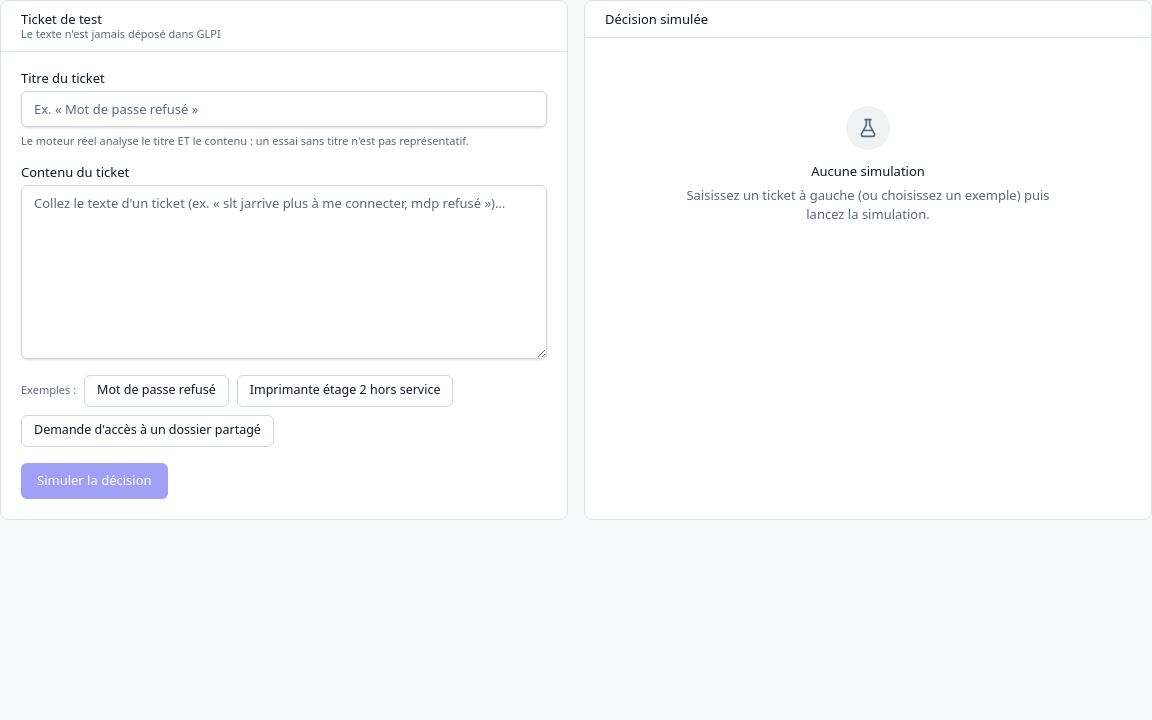
Test: Sandbox › simule une décision et affiche le résultat (accepté + brouillon)
The width and height of the screenshot is (1152, 720).
Step 1. Type "mdp refusé" into the text box labelled "Contenu du ticket" → [284, 272], box 21,184 -> 547,358
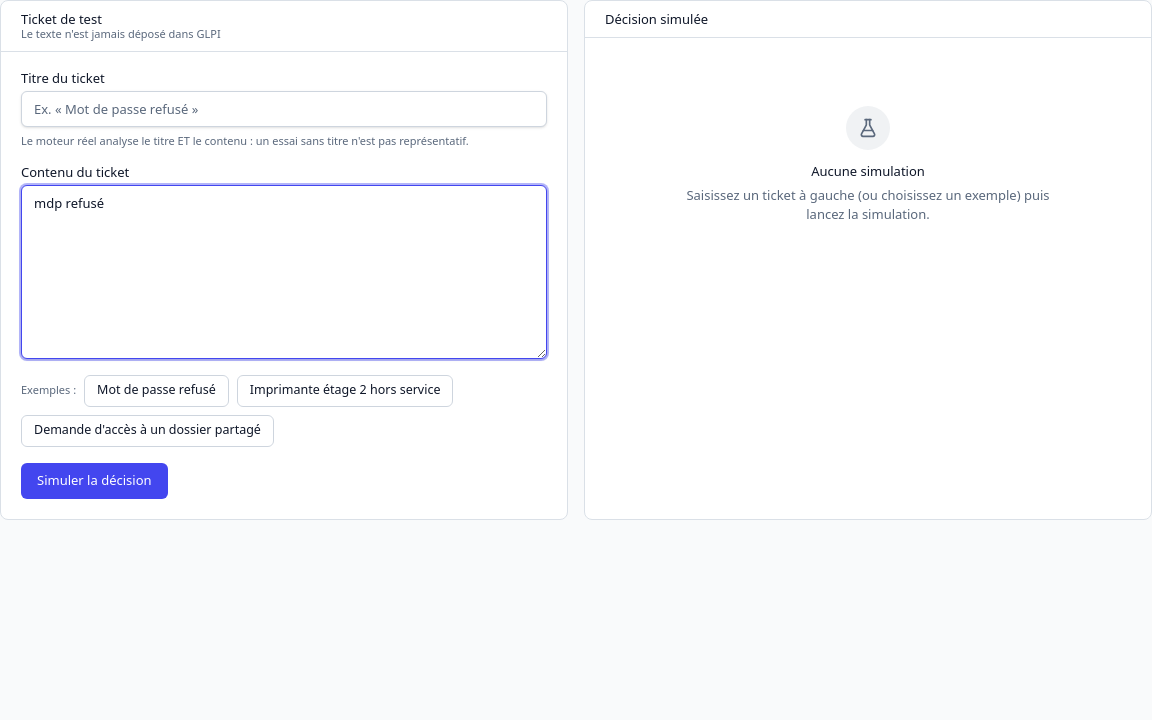
Step 2. Click the button "Simuler la décision" → [94, 480], box 21,462 -> 168,498
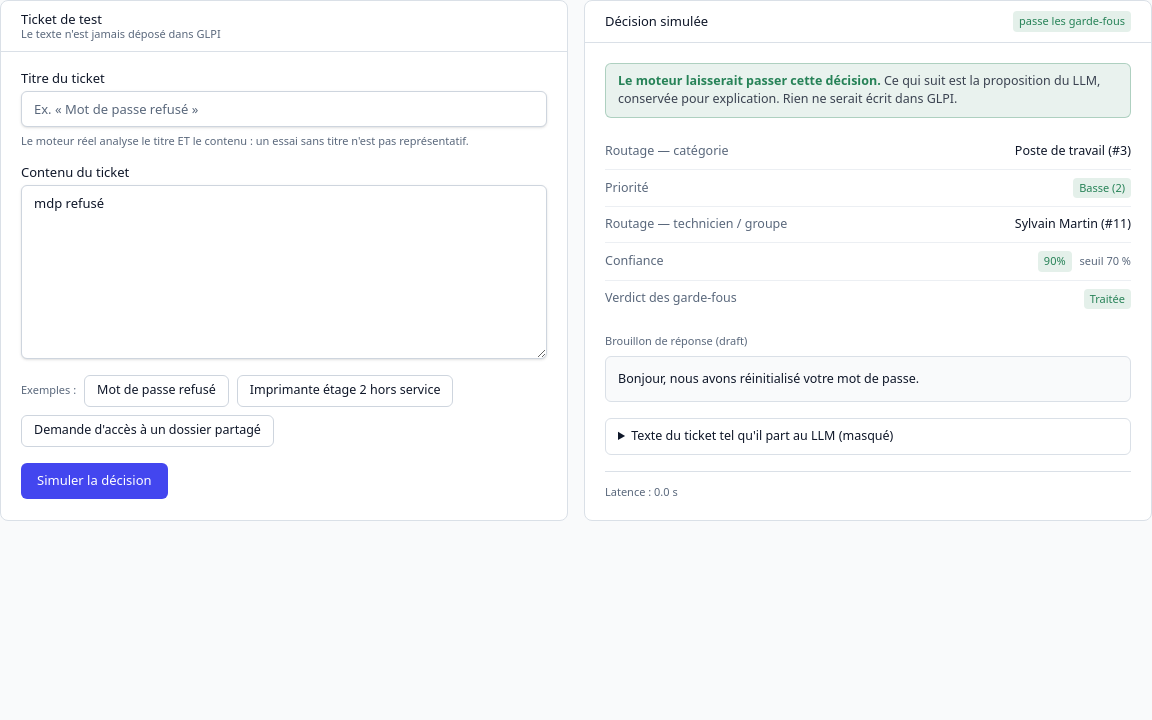
Expected: the text "passe les garde-fous" is shown, 1013,11 -> 1131,32
Expected: the text "Sylvain Martin (#11)" is shown, 1015,215 -> 1131,234
Expected: the text "Poste de travail (#3)" is shown, 1015,142 -> 1131,161
